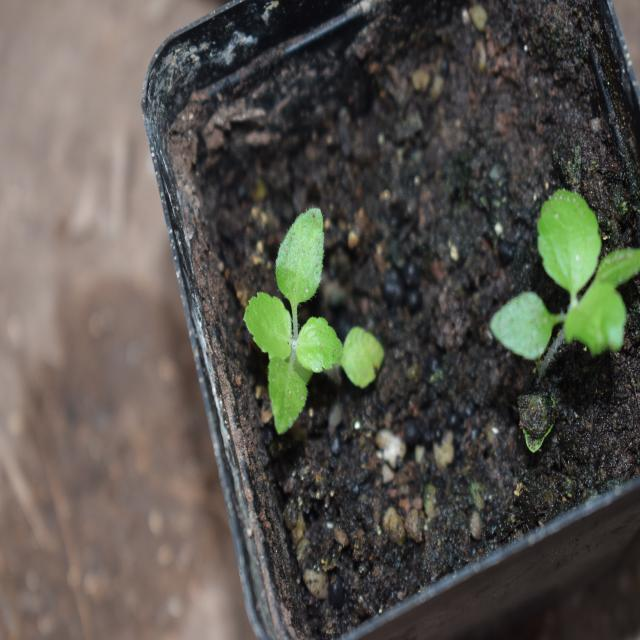billygoat_weed: (499, 159, 637, 400), (242, 194, 358, 435)
